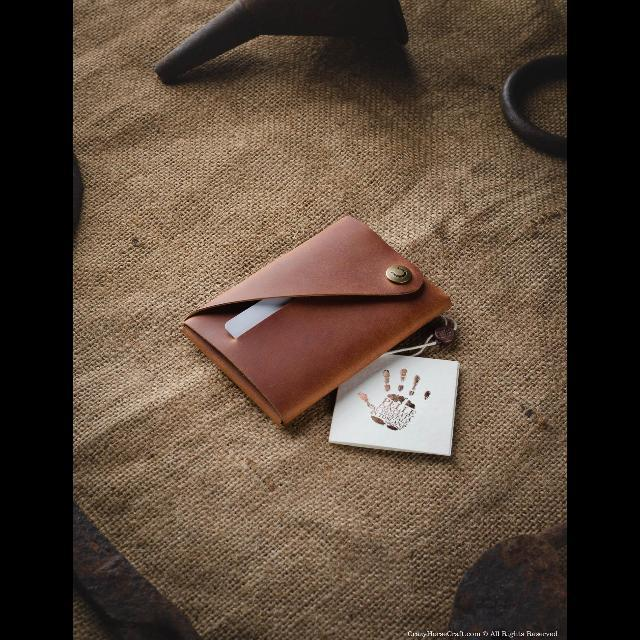wallet: (178, 210, 454, 430)
